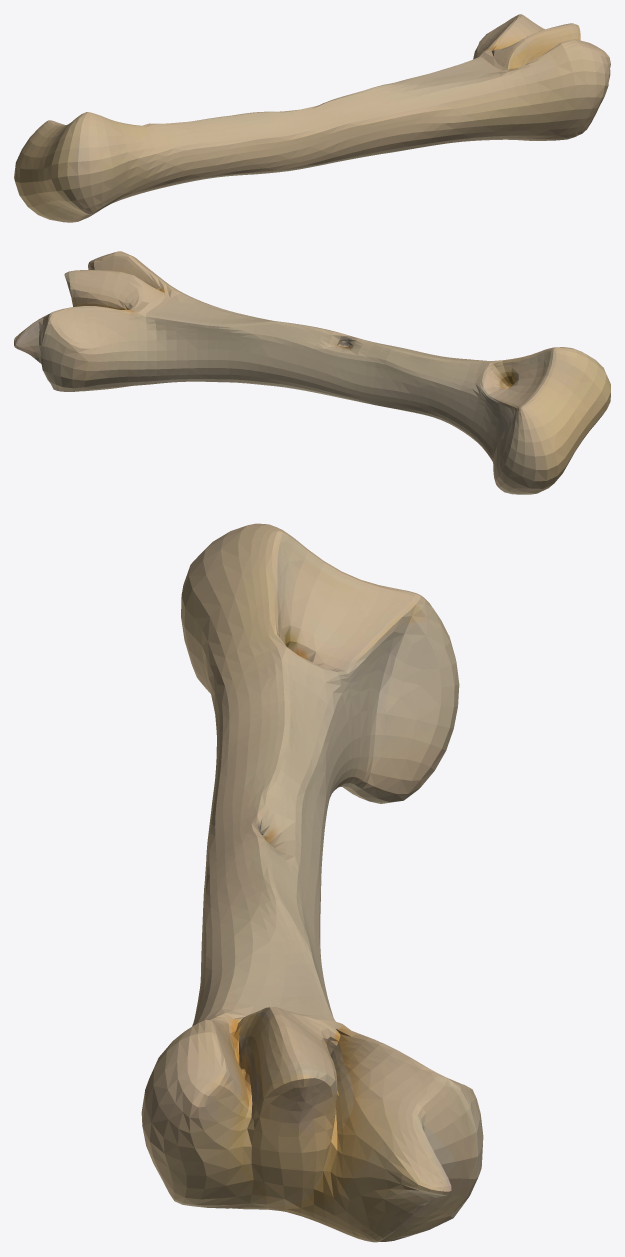
The model's file is boney.glb.
3 renders of one model, top to bottom at view 1: azimuth 30°, elevation 25°; view 2: azimuth 150°, elevation 25°; view 3: azimuth 270°, elevation 25°, orthographic. The views are drawn at different scales.
Visible parts, largest first — view 1: tripo_node_165d6629-d2cc-4d1f-b3ea-82637d7d459d; view 2: tripo_node_165d6629-d2cc-4d1f-b3ea-82637d7d459d; view 3: tripo_node_165d6629-d2cc-4d1f-b3ea-82637d7d459d.
Part boxes in pixels (left/top/right/bottom): tripo_node_165d6629-d2cc-4d1f-b3ea-82637d7d459d: left=14, top=14, right=610, bottom=222; tripo_node_165d6629-d2cc-4d1f-b3ea-82637d7d459d: left=14, top=251, right=610, bottom=494; tripo_node_165d6629-d2cc-4d1f-b3ea-82637d7d459d: left=141, top=523, right=483, bottom=1242.
Size of the model in its own units: 0.9984 by 0.2292 by 0.2707.
1 material, 1 textured.
